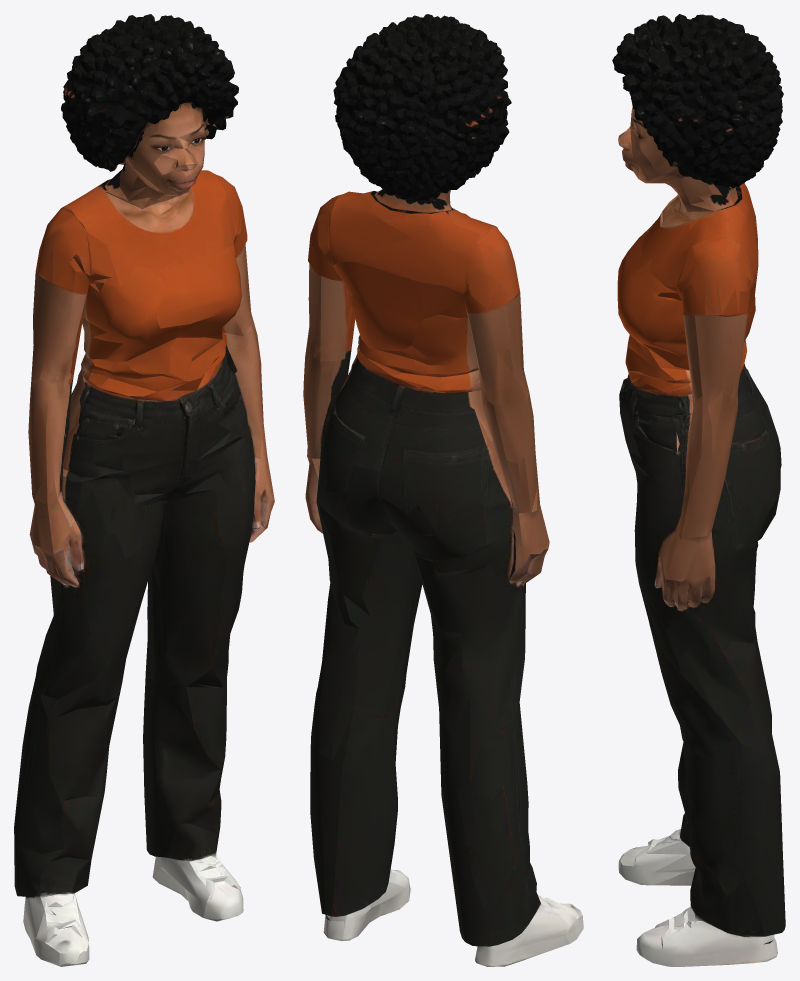
File: mae.glb
3 views of the same model, side by side, from view 1: azimuth 30°, elevation 25°; view 2: azimuth 150°, elevation 25°; view 3: azimuth 270°, elevation 25° (orthographic).
Parts seen in each view (by area): view 1: output_unwrapped; view 2: output_unwrapped; view 3: output_unwrapped.
Boxes of the visible parts, <box> form: output_unwrapped: <box>14,14,274,966</box>; output_unwrapped: <box>303,14,583,966</box>; output_unwrapped: <box>612,14,785,966</box>.
Size of the model in its own units: 0.4676 by 1.62 by 0.2808.
1 material, 1 textured.
